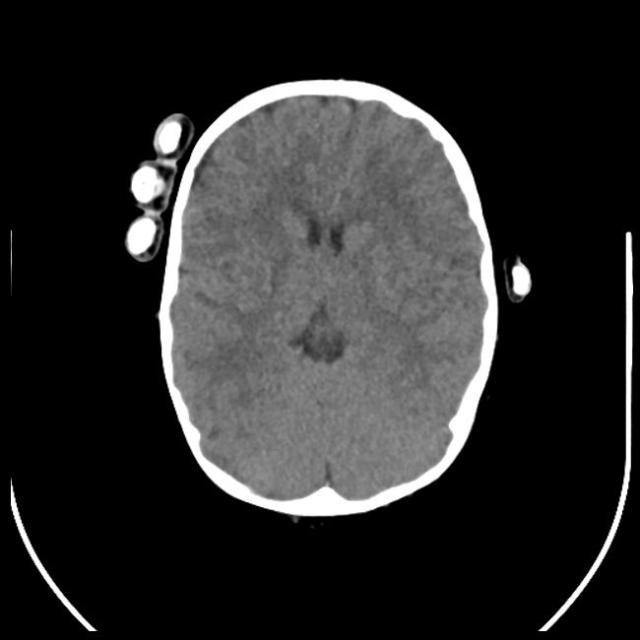lesion: (169, 307, 281, 475)
